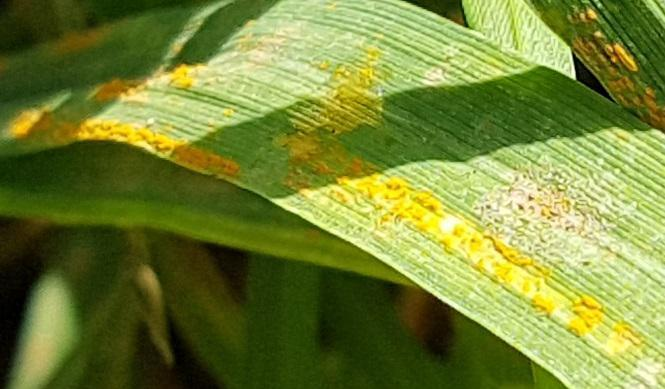Wheat: (328, 176, 622, 353), (56, 108, 251, 196), (540, 1, 665, 130)
